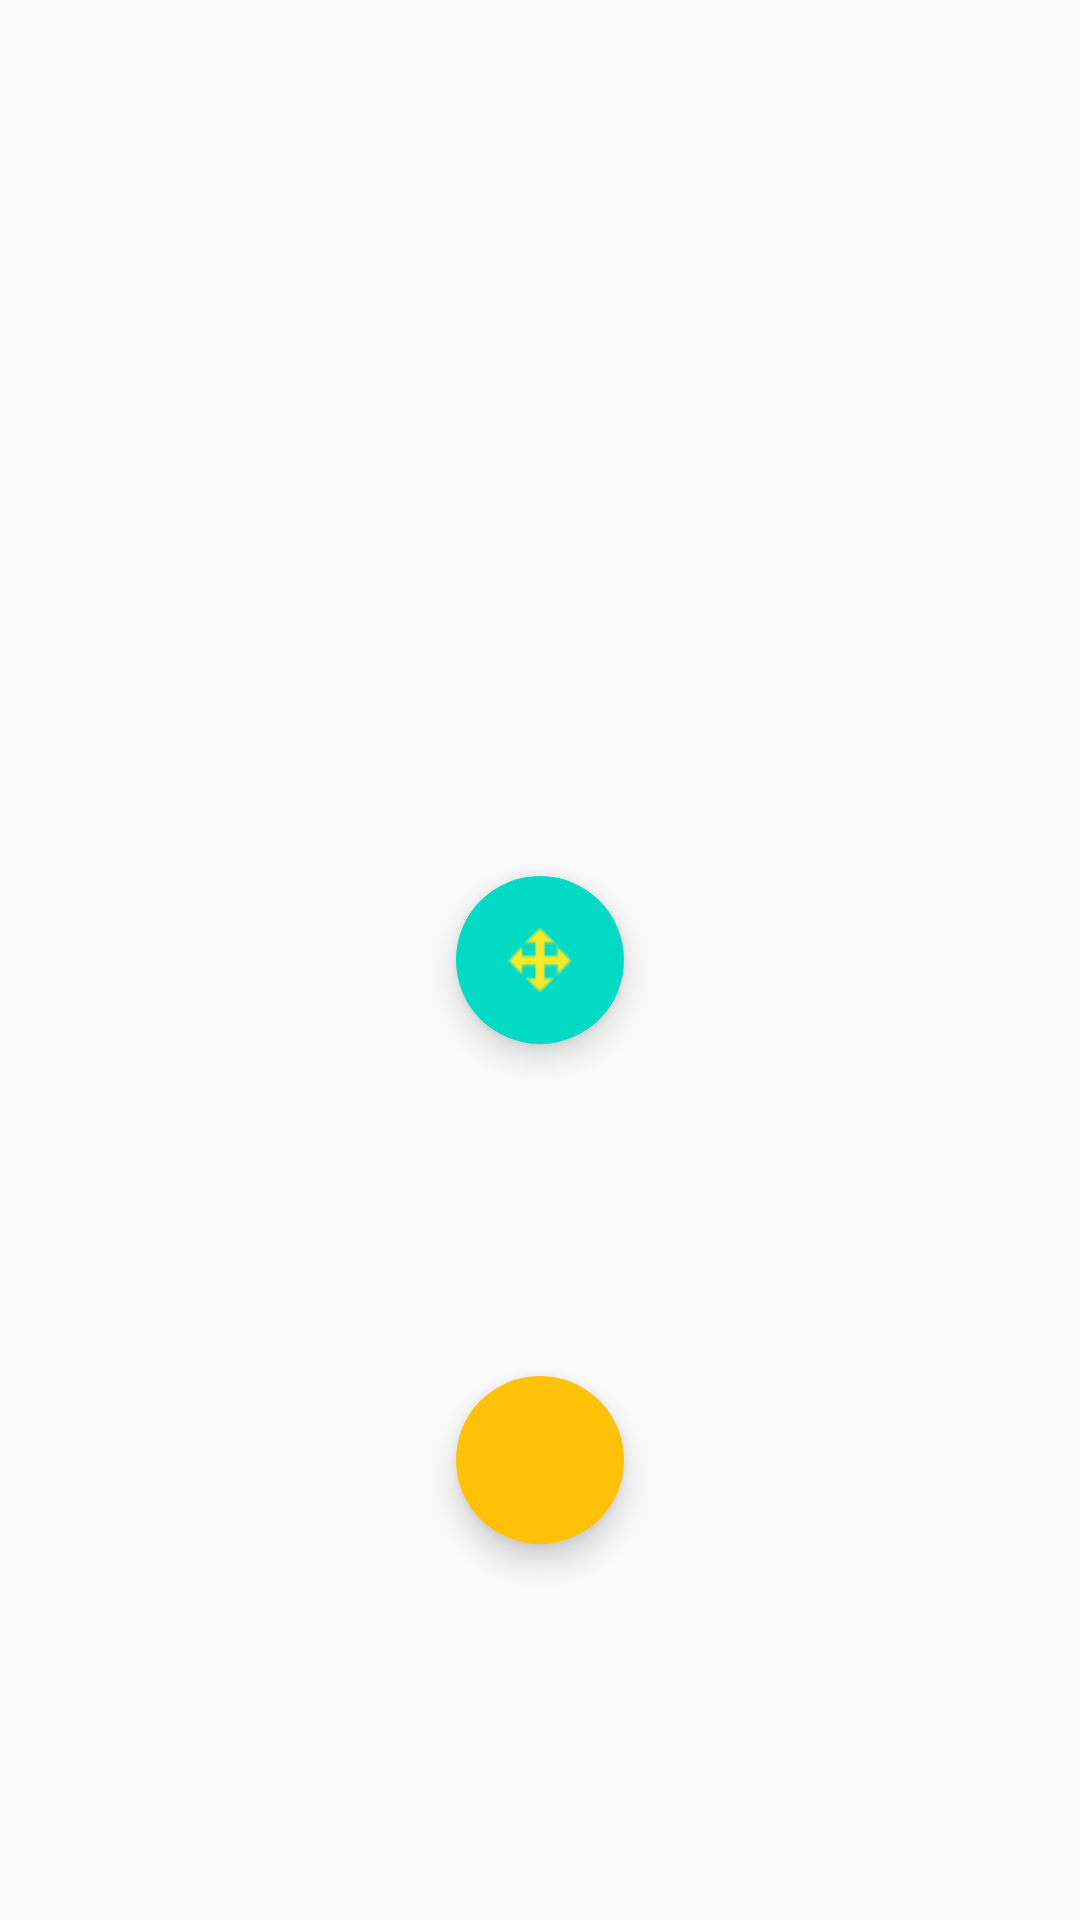

Icons on this 1080w x 1920h Android screen, each with the point to tap as [x,y]:
drag: [540,960]
